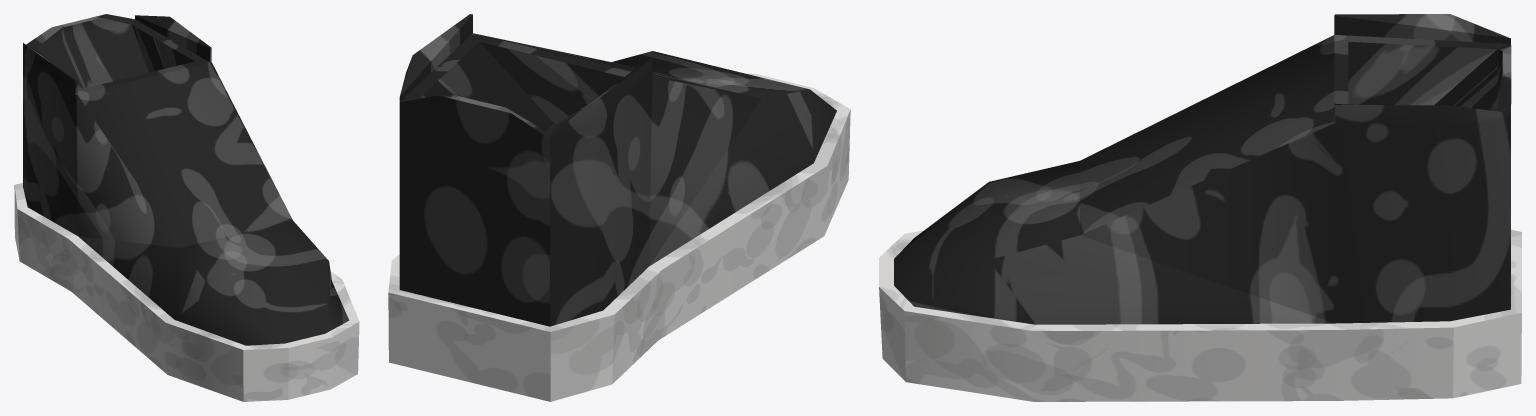
The model's file is Schoen.fbx.
3 renders of one model, left to right at view 1: azimuth 30°, elevation 25°; view 2: azimuth 150°, elevation 25°; view 3: azimuth 270°, elevation 25°, orthographic. The views are drawn at different scales.
Visible parts, largest first — view 1: pCube1; view 2: pCube1; view 3: pCube1.
Part boxes in pixels (<box>): pCube1: <box>14,14,359,401</box>; pCube1: <box>388,14,850,401</box>; pCube1: <box>879,14,1521,401</box>.
Bounding box in the file's own units: 2.88 × 3.31 × 6.66.
